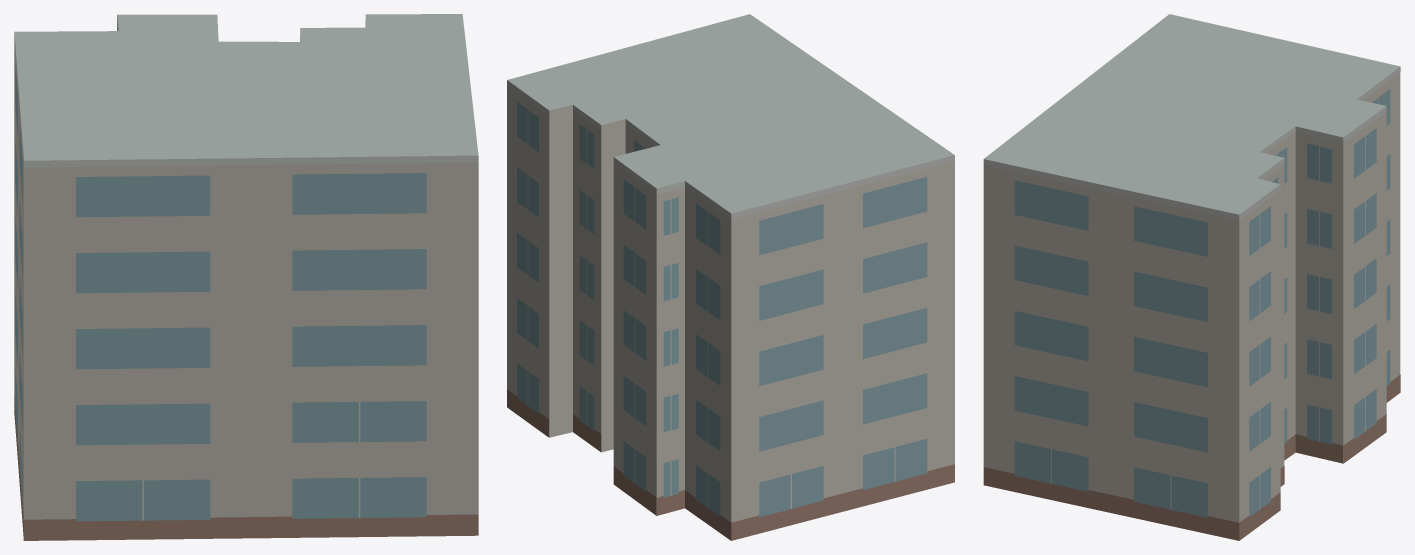
Rendered from survey-upis-32689667.glb.
3 views of the same model, side by side, from view 1: azimuth 30°, elevation 25°; view 2: azimuth 150°, elevation 25°; view 3: azimuth 270°, elevation 25° (orthographic). The views are drawn at different scales.
Visible parts, largest first — view 1: survey-upis-32689667.tmp; view 2: survey-upis-32689667.tmp; view 3: survey-upis-32689667.tmp.
Boxes of the visible parts, bbox=[...] form: survey-upis-32689667.tmp: bbox=[14, 14, 478, 540]; survey-upis-32689667.tmp: bbox=[507, 14, 954, 540]; survey-upis-32689667.tmp: bbox=[983, 14, 1400, 540].
Bounding box in the file's own units: 17.69 × 13.4 × 15.53.
